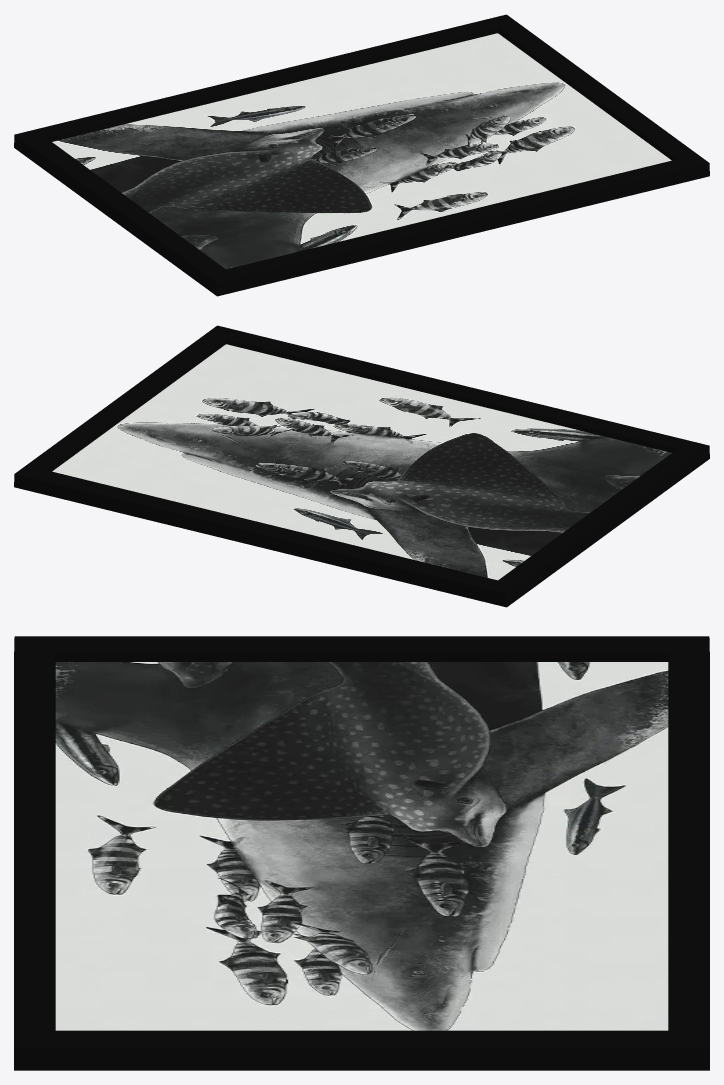
Rendered from cuadro.glb.
The picture shows the model from 3 angles, top to bottom: view 1: azimuth 30°, elevation 25°; view 2: azimuth 150°, elevation 25°; view 3: azimuth 270°, elevation 25°; orthographic projection. The views are drawn at different scales.
Parts seen in each view (by area): view 1: cuadro.001; view 2: cuadro.001; view 3: cuadro.001.
Part boxes in pixels (x1,y1,x2,y2): cuadro.001: (14,14,709,296); cuadro.001: (14,325,709,607); cuadro.001: (14,636,709,1070).
Bounding box in the file's own units: 0.6894 × 0.0177 × 0.4924.
1 material, 1 textured.
